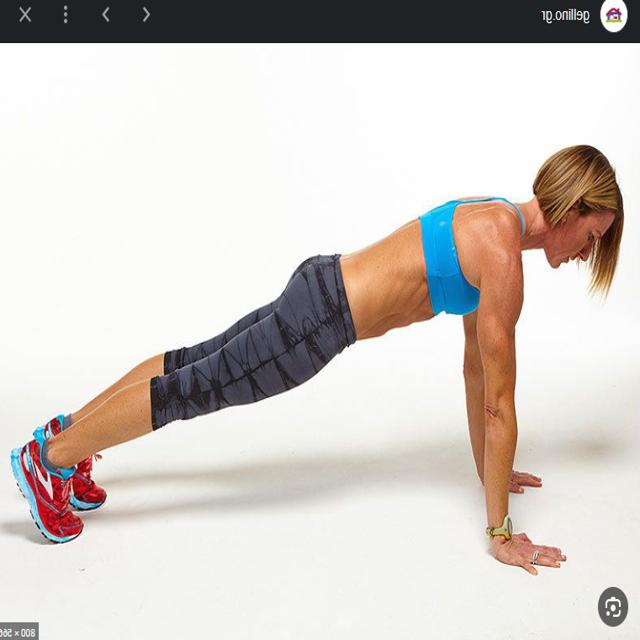Plank_Pose: (3, 139, 630, 582)
